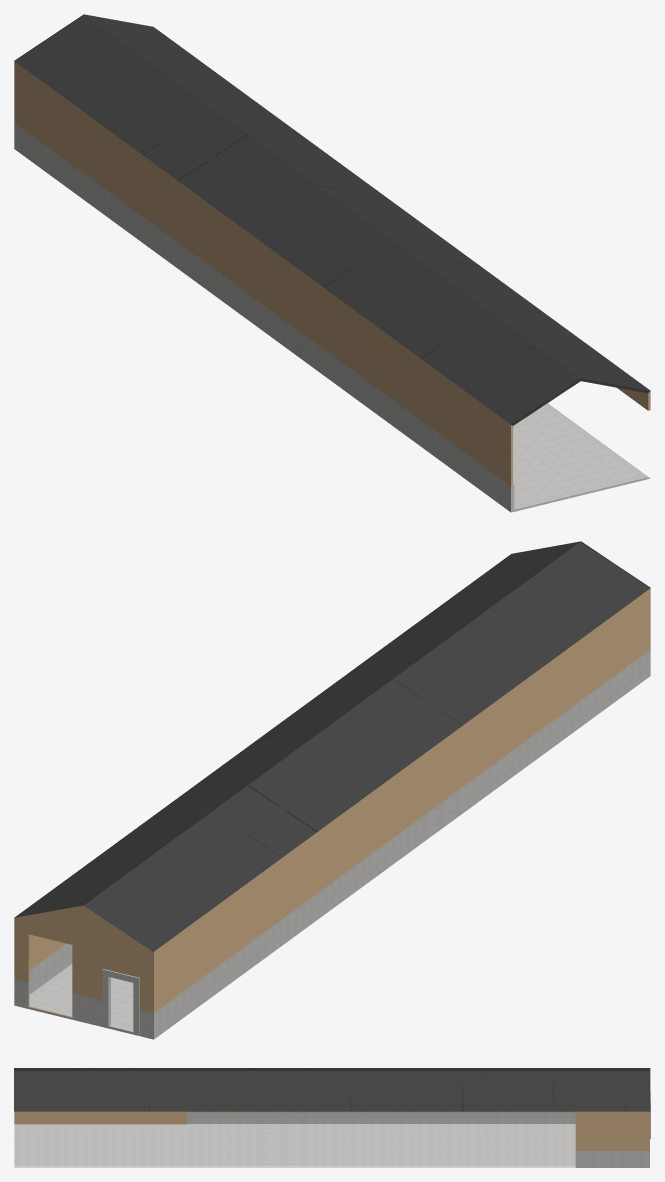
File: Corridor Cinemateca.fbx
The picture shows the model from 3 angles, top to bottom: view 1: azimuth 30°, elevation 25°; view 2: azimuth 150°, elevation 25°; view 3: azimuth 270°, elevation 25°; orthographic projection. The views are drawn at different scales.
Visible parts, largest first — view 1: Corredor_Lateral; view 2: Corredor_Lateral; view 3: Corredor_Lateral.
Boxes of the visible parts, bbox=[...] form: Corredor_Lateral: bbox=[14, 14, 650, 512]; Corredor_Lateral: bbox=[14, 541, 650, 1039]; Corredor_Lateral: bbox=[14, 1068, 650, 1167].
Bounding box in the file's own units: 481 × 387 × 2972.
3 materials, 2 textured.
